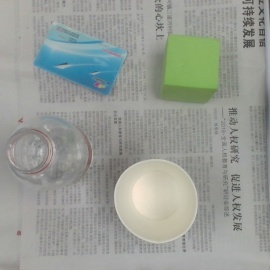bottle: (5, 116, 91, 190)
card: (35, 21, 127, 97)
cup: (115, 159, 198, 244)
